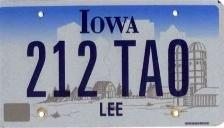0: (167, 38, 190, 99)
1: (51, 39, 73, 99)
2: (24, 39, 49, 99), (75, 38, 99, 99)
A: (137, 38, 165, 98)
T: (112, 38, 138, 99)
